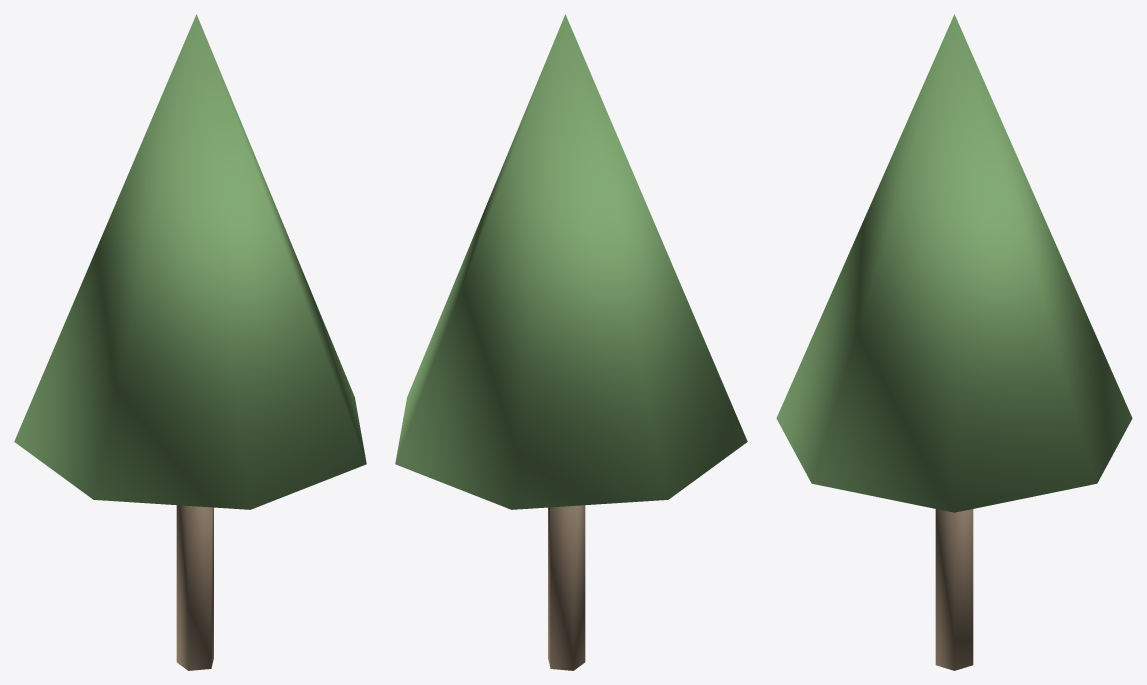
The model's file is ambient_tree_17.glb.
3 renders of one model, left to right at view 1: azimuth 30°, elevation 25°; view 2: azimuth 150°, elevation 25°; view 3: azimuth 270°, elevation 25°, orthographic.
Visible parts, largest first — view 1: ambient_tree_17; view 2: ambient_tree_17; view 3: ambient_tree_17.
Boxes of the visible parts, x1,y1,x2,y2 form: ambient_tree_17: (14, 14, 366, 670); ambient_tree_17: (395, 14, 747, 670); ambient_tree_17: (776, 14, 1132, 670).
Bounding box in the file's own units: 1.05 × 2.15 × 1.07.
